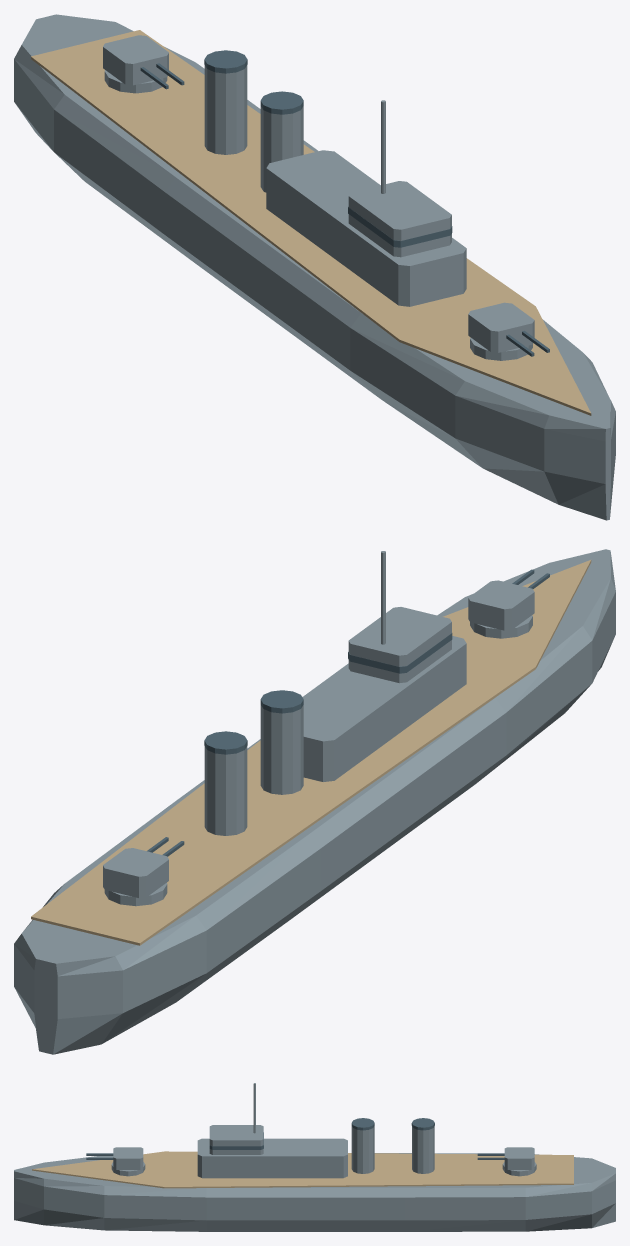
The model's file is destroyer.glb.
3 renders of one model, top to bottom at view 1: azimuth 30°, elevation 25°; view 2: azimuth 150°, elevation 25°; view 3: azimuth 270°, elevation 25°, orthographic. The views are drawn at different scales.
Visible parts, largest first — view 1: destroyer; view 2: destroyer; view 3: destroyer.
Part boxes in pixels (x1=…): destroyer: x1=14, y1=14, x2=615, y2=520; destroyer: x1=14, y1=549, x2=615, y2=1054; destroyer: x1=14, y1=1083, x2=615, y2=1231.
Bounding box in the file's own units: 16 × 24.95 × 100.
